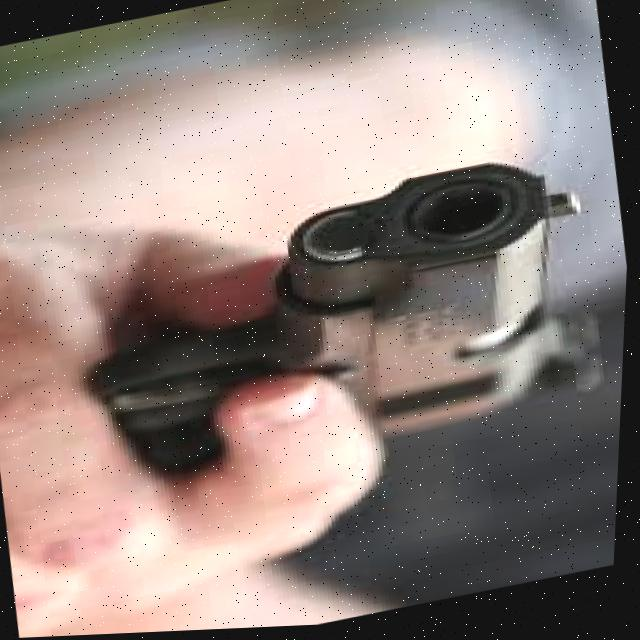pistol: (70, 146, 626, 497)
